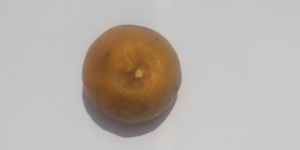BAD: (81, 18, 181, 127)
